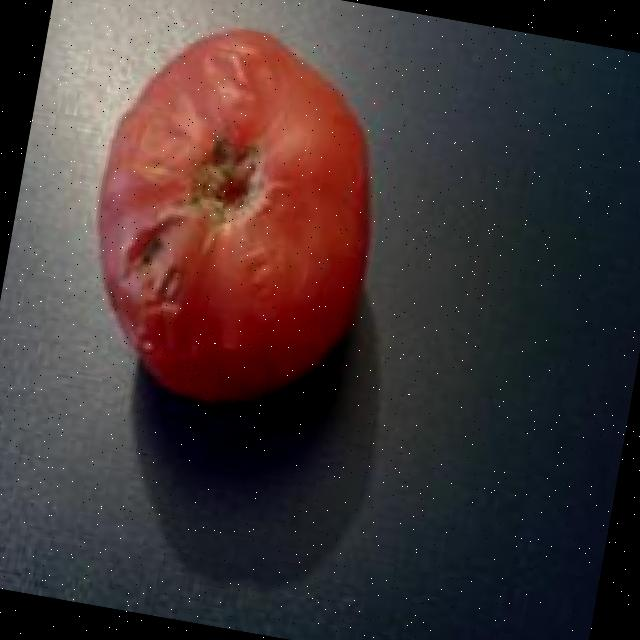overripe: (58, 0, 404, 425)
